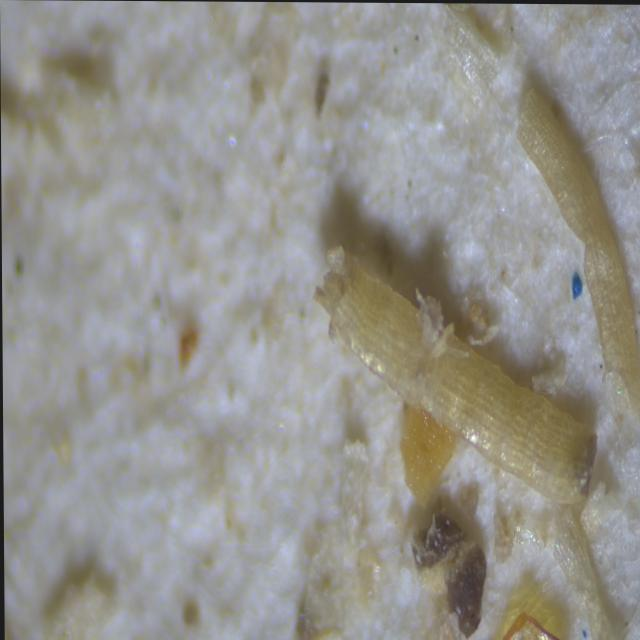microplastic: (569, 263, 584, 303)
